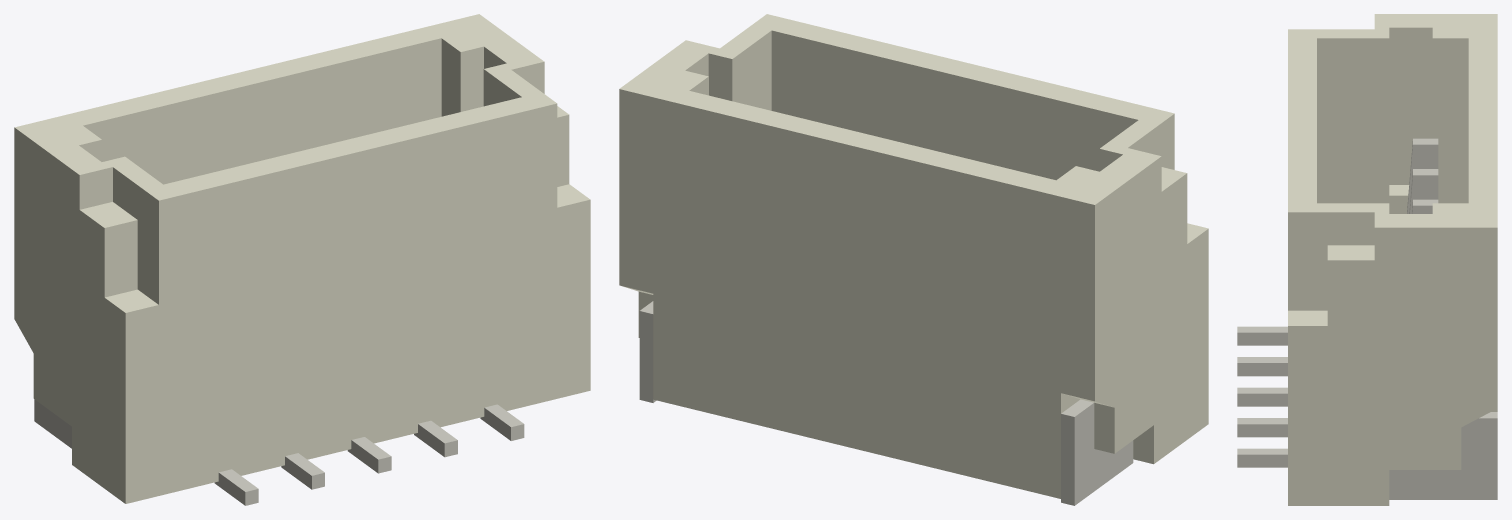
Rendered from kc-jst_sh_bm05b-srss-tb_1x05-1mp_p1.00mm_vertical.glb.
3 views of the same model, side by side, from view 1: azimuth 30°, elevation 25°; view 2: azimuth 150°, elevation 25°; view 3: azimuth 270°, elevation 25° (orthographic). The views are drawn at different scales.
Parts seen in each view (by area): view 1: 0.75_0.75_0.6666666666666666_0, 0.6666666666666666_0.6666666666666666_0.5833333333333334_0.8; view 2: 0.75_0.75_0.6666666666666666_0, 0.6666666666666666_0.6666666666666666_0.5833333333333334_0.8; view 3: 0.75_0.75_0.6666666666666666_0, 0.6666666666666666_0.6666666666666666_0.5833333333333334_0.8.
Boxes of the visible parts, bbox=[...] form: 0.75_0.75_0.6666666666666666_0: bbox=[14, 14, 590, 503]; 0.6666666666666666_0.6666666666666666_0.5833333333333334_0.8: bbox=[34, 399, 524, 505]; 0.75_0.75_0.6666666666666666_0: bbox=[619, 14, 1208, 498]; 0.6666666666666666_0.6666666666666666_0.5833333333333334_0.8: bbox=[639, 301, 1133, 505]; 0.75_0.75_0.6666666666666666_0: bbox=[1288, 14, 1497, 505]; 0.6666666666666666_0.6666666666666666_0.5833333333333334_0.8: bbox=[1237, 138, 1497, 499].
Size of the model in its own units: 0.7 by 0.432 by 0.36.
